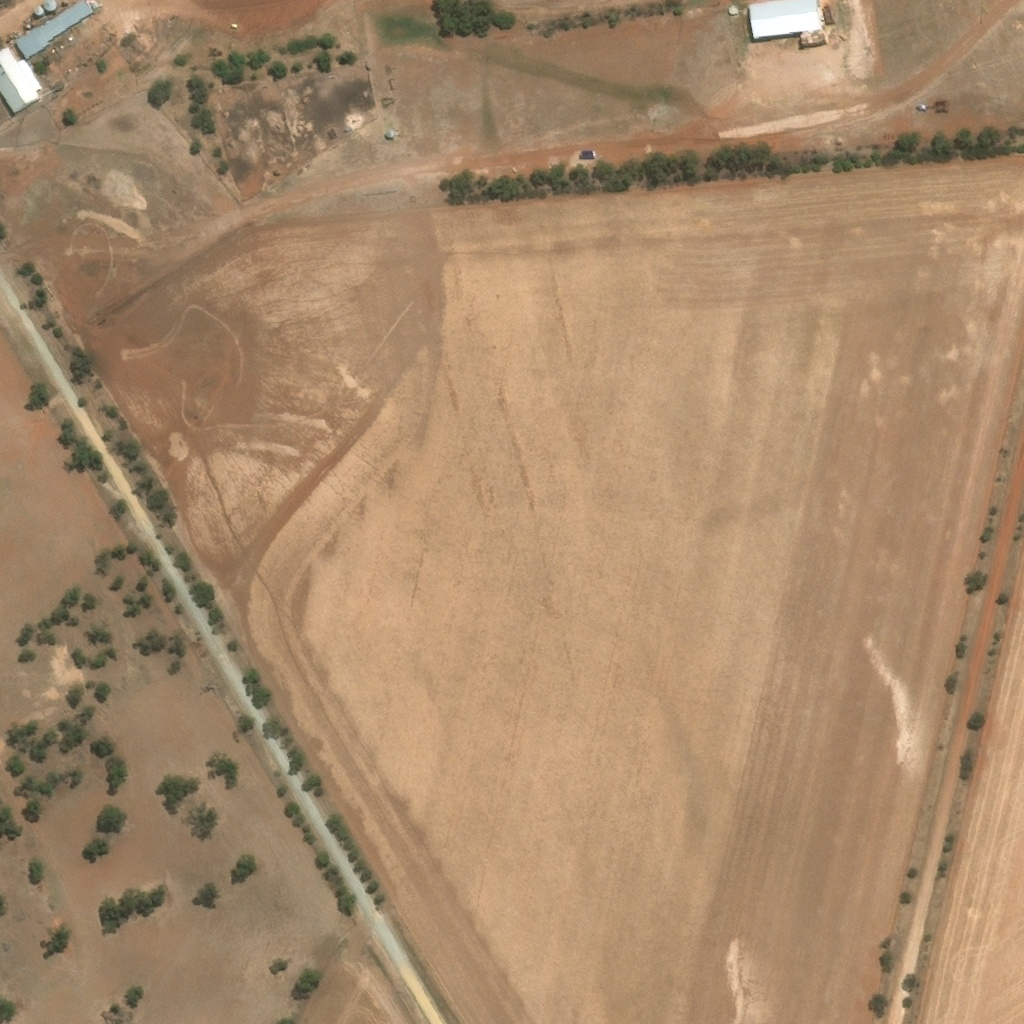0 no-damage: (13, 0, 94, 61), (0, 44, 40, 112), (31, 0, 59, 21), (384, 129, 393, 139), (725, 7, 735, 15), (925, 104, 934, 110), (341, 129, 346, 134)
4 un-classified: (814, 130, 835, 146), (1006, 18, 1019, 30), (768, 98, 780, 110), (994, 113, 1005, 124)
